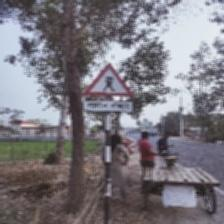Market-in-front: (82, 63, 134, 116)
